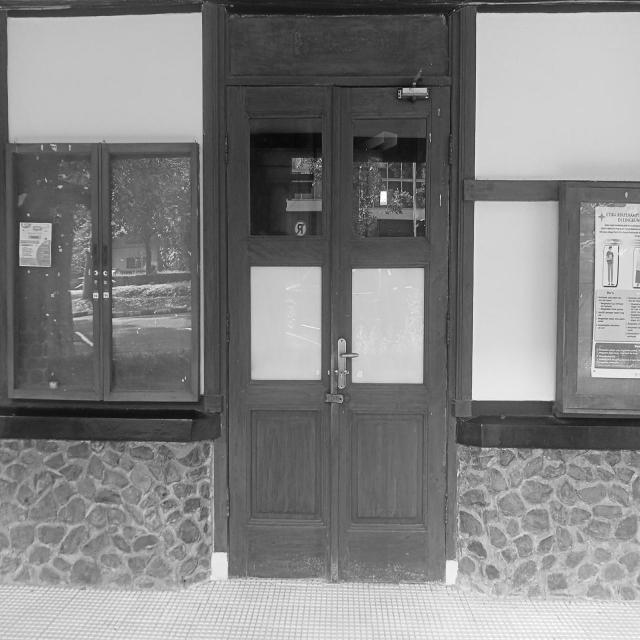door: (218, 75, 460, 584)
